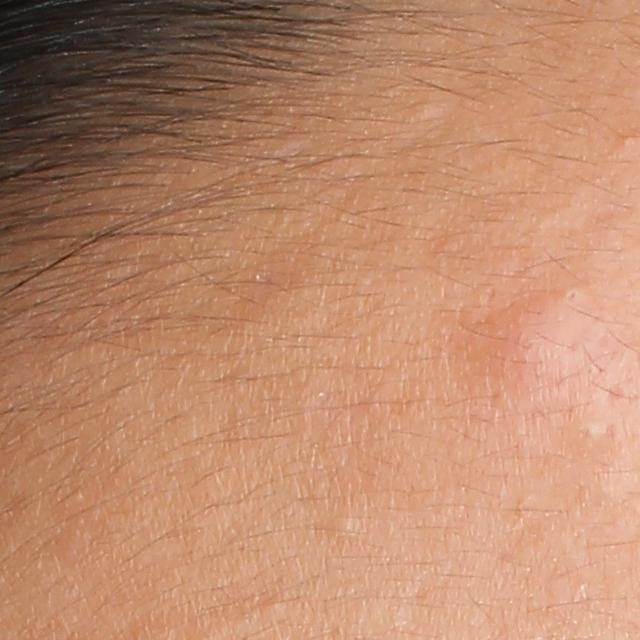comedo: (322, 504, 360, 544), (573, 412, 611, 447), (563, 282, 592, 305)
